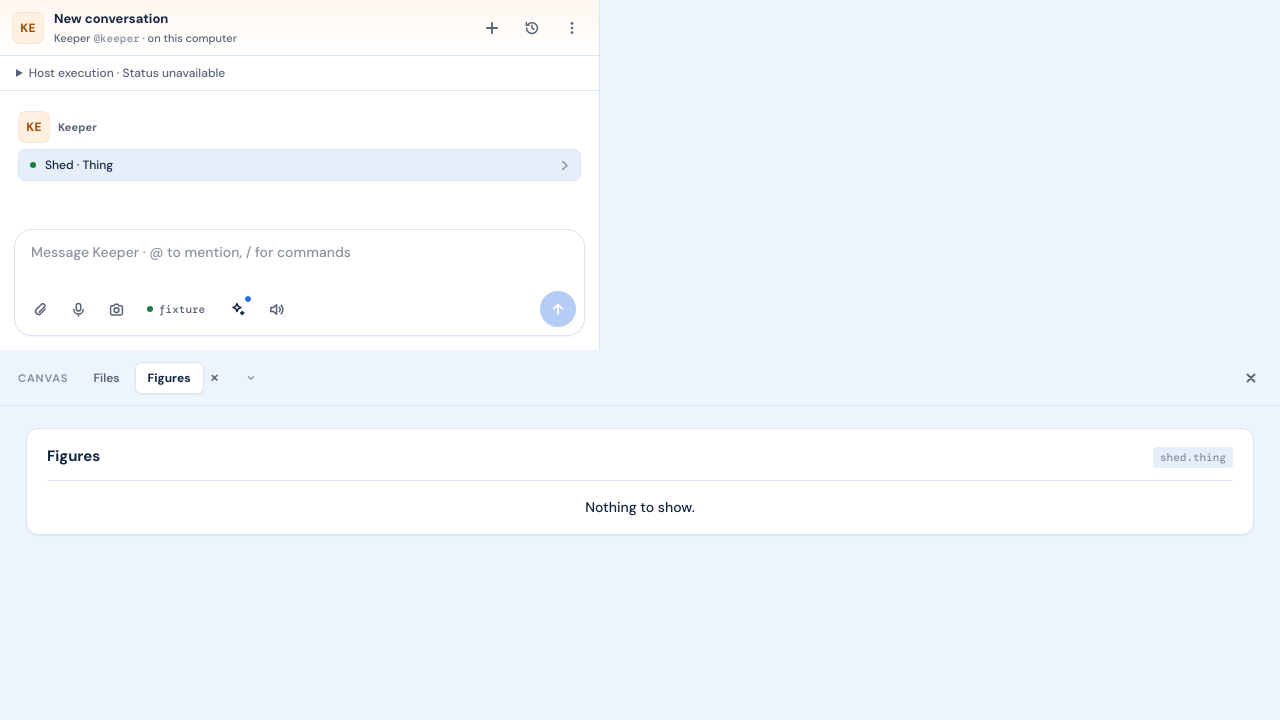
Test case: the Files tab on a conversation › reads the folder again when a change to a file comes back, and keeps the owner on it
Press the mouse on the tab "Files" at [106, 378], box [80,362,133,394]
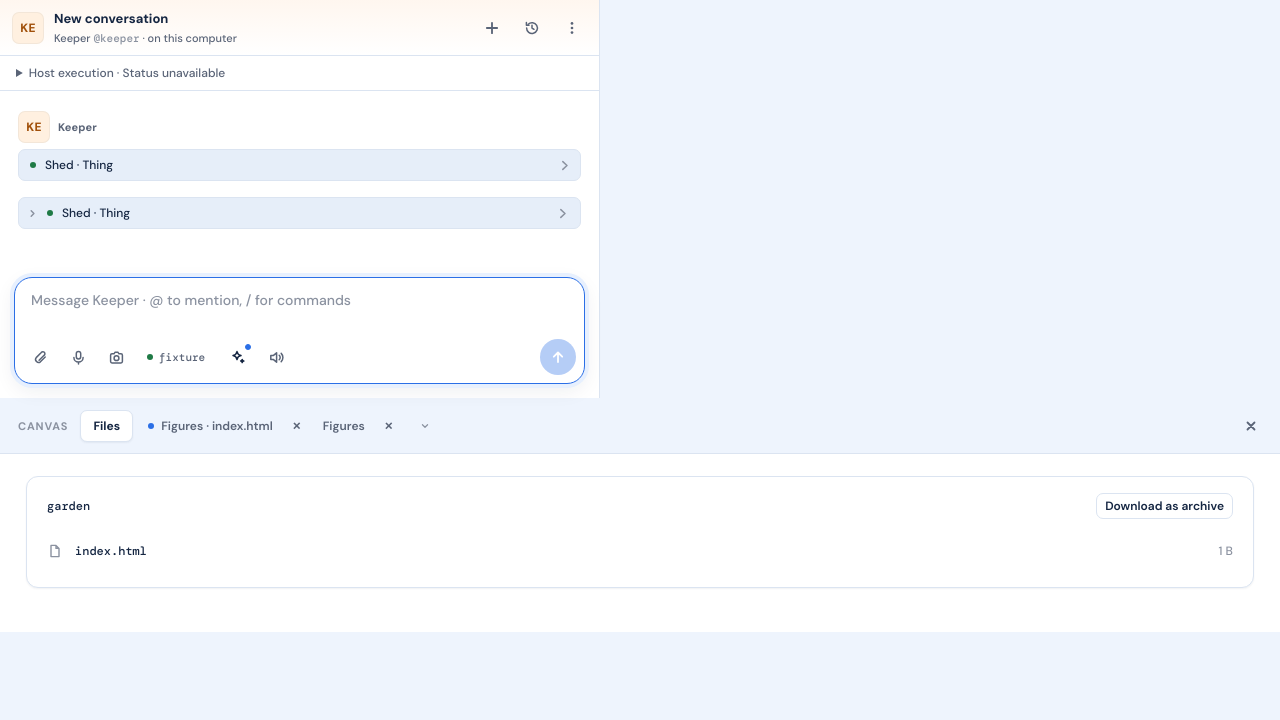
Expected: the text "index.html" is shown, [75,543,147,559]
